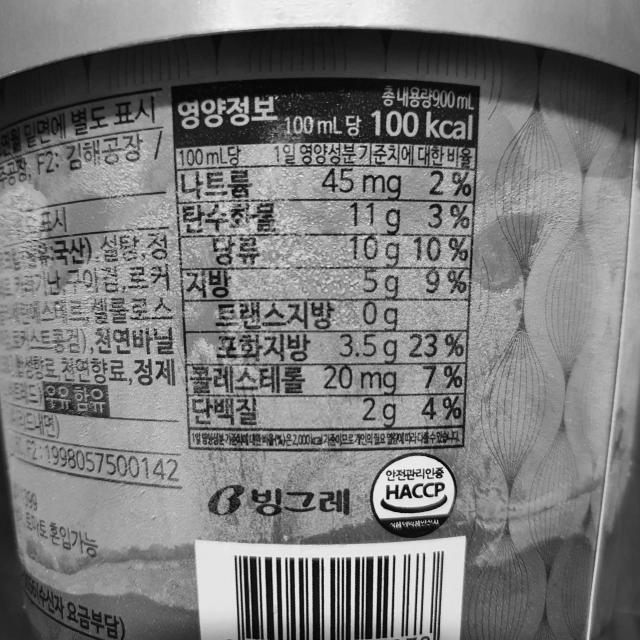Nutrition Label: (156, 61, 486, 468)
